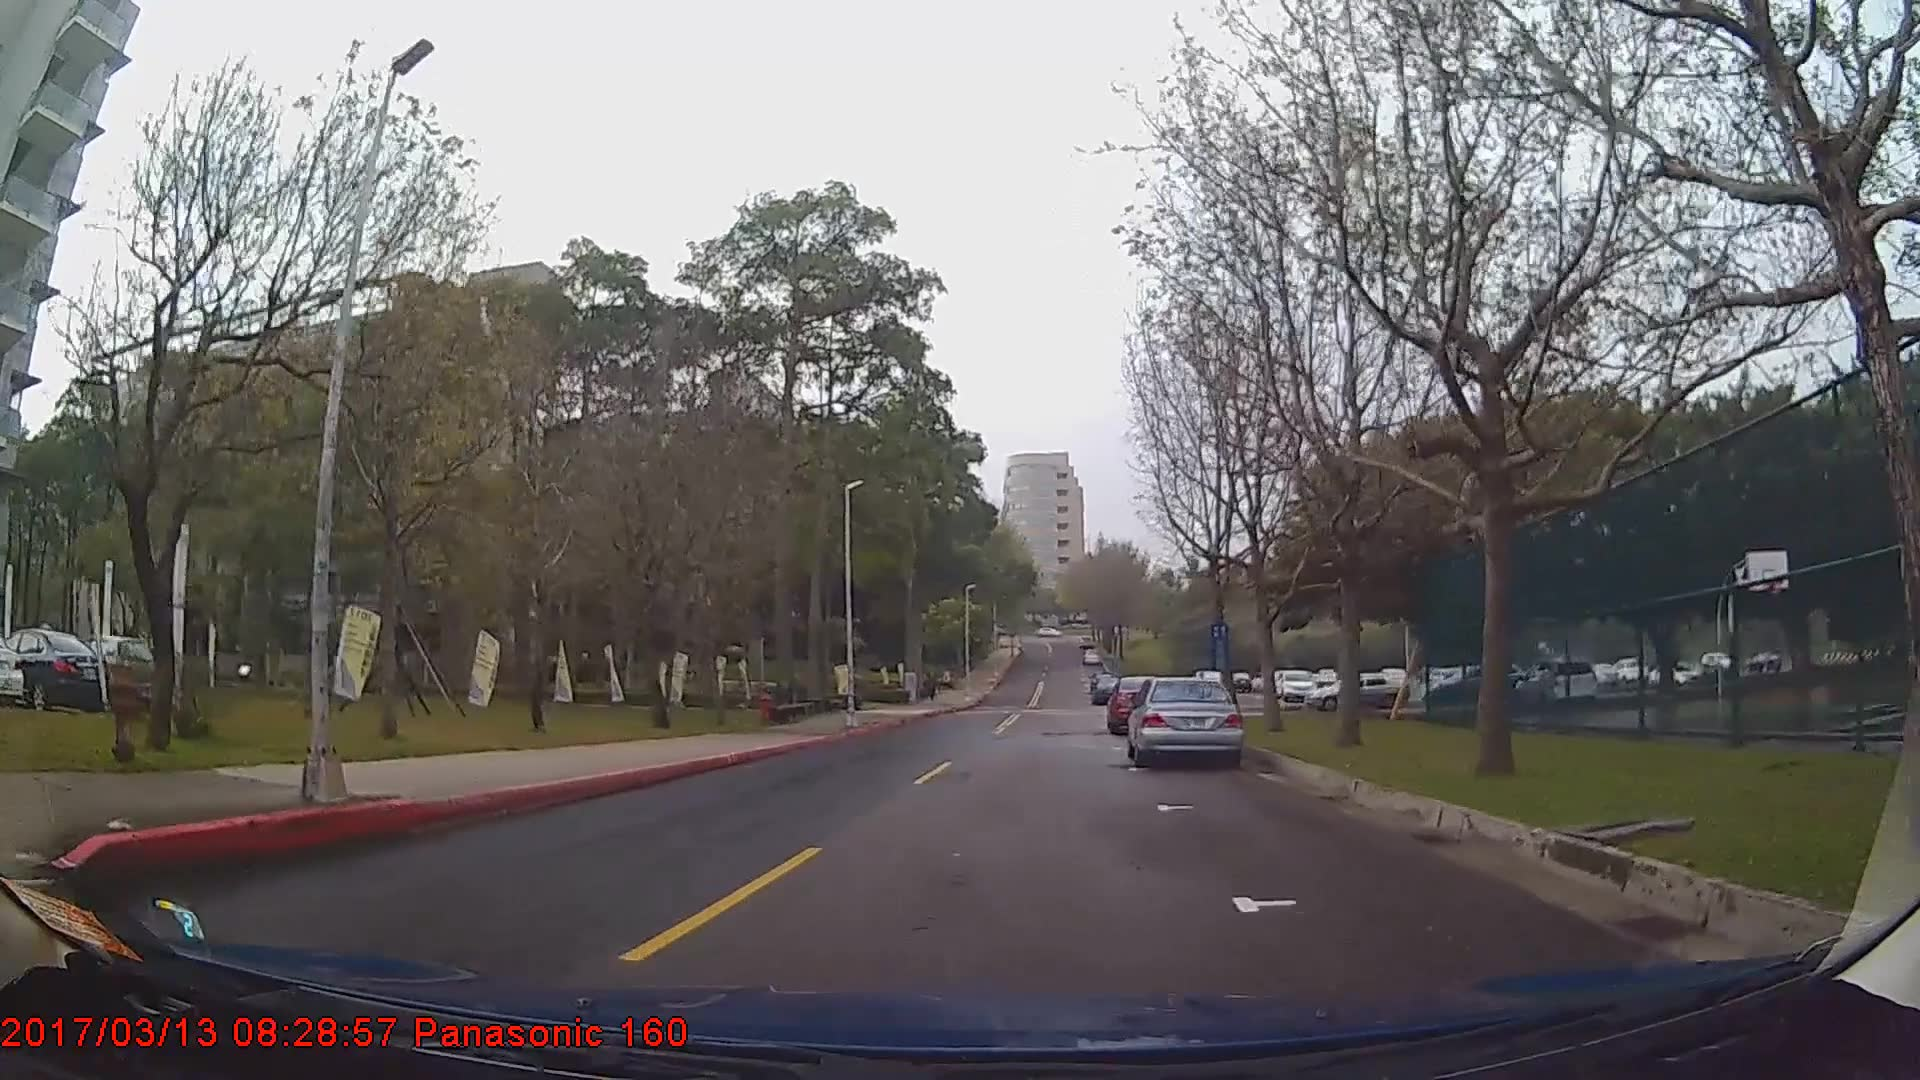vehicle: (1124, 676, 1242, 773), (0, 626, 105, 716), (62, 634, 156, 705), (1302, 669, 1408, 713), (1104, 675, 1170, 736), (1089, 675, 1125, 704)
